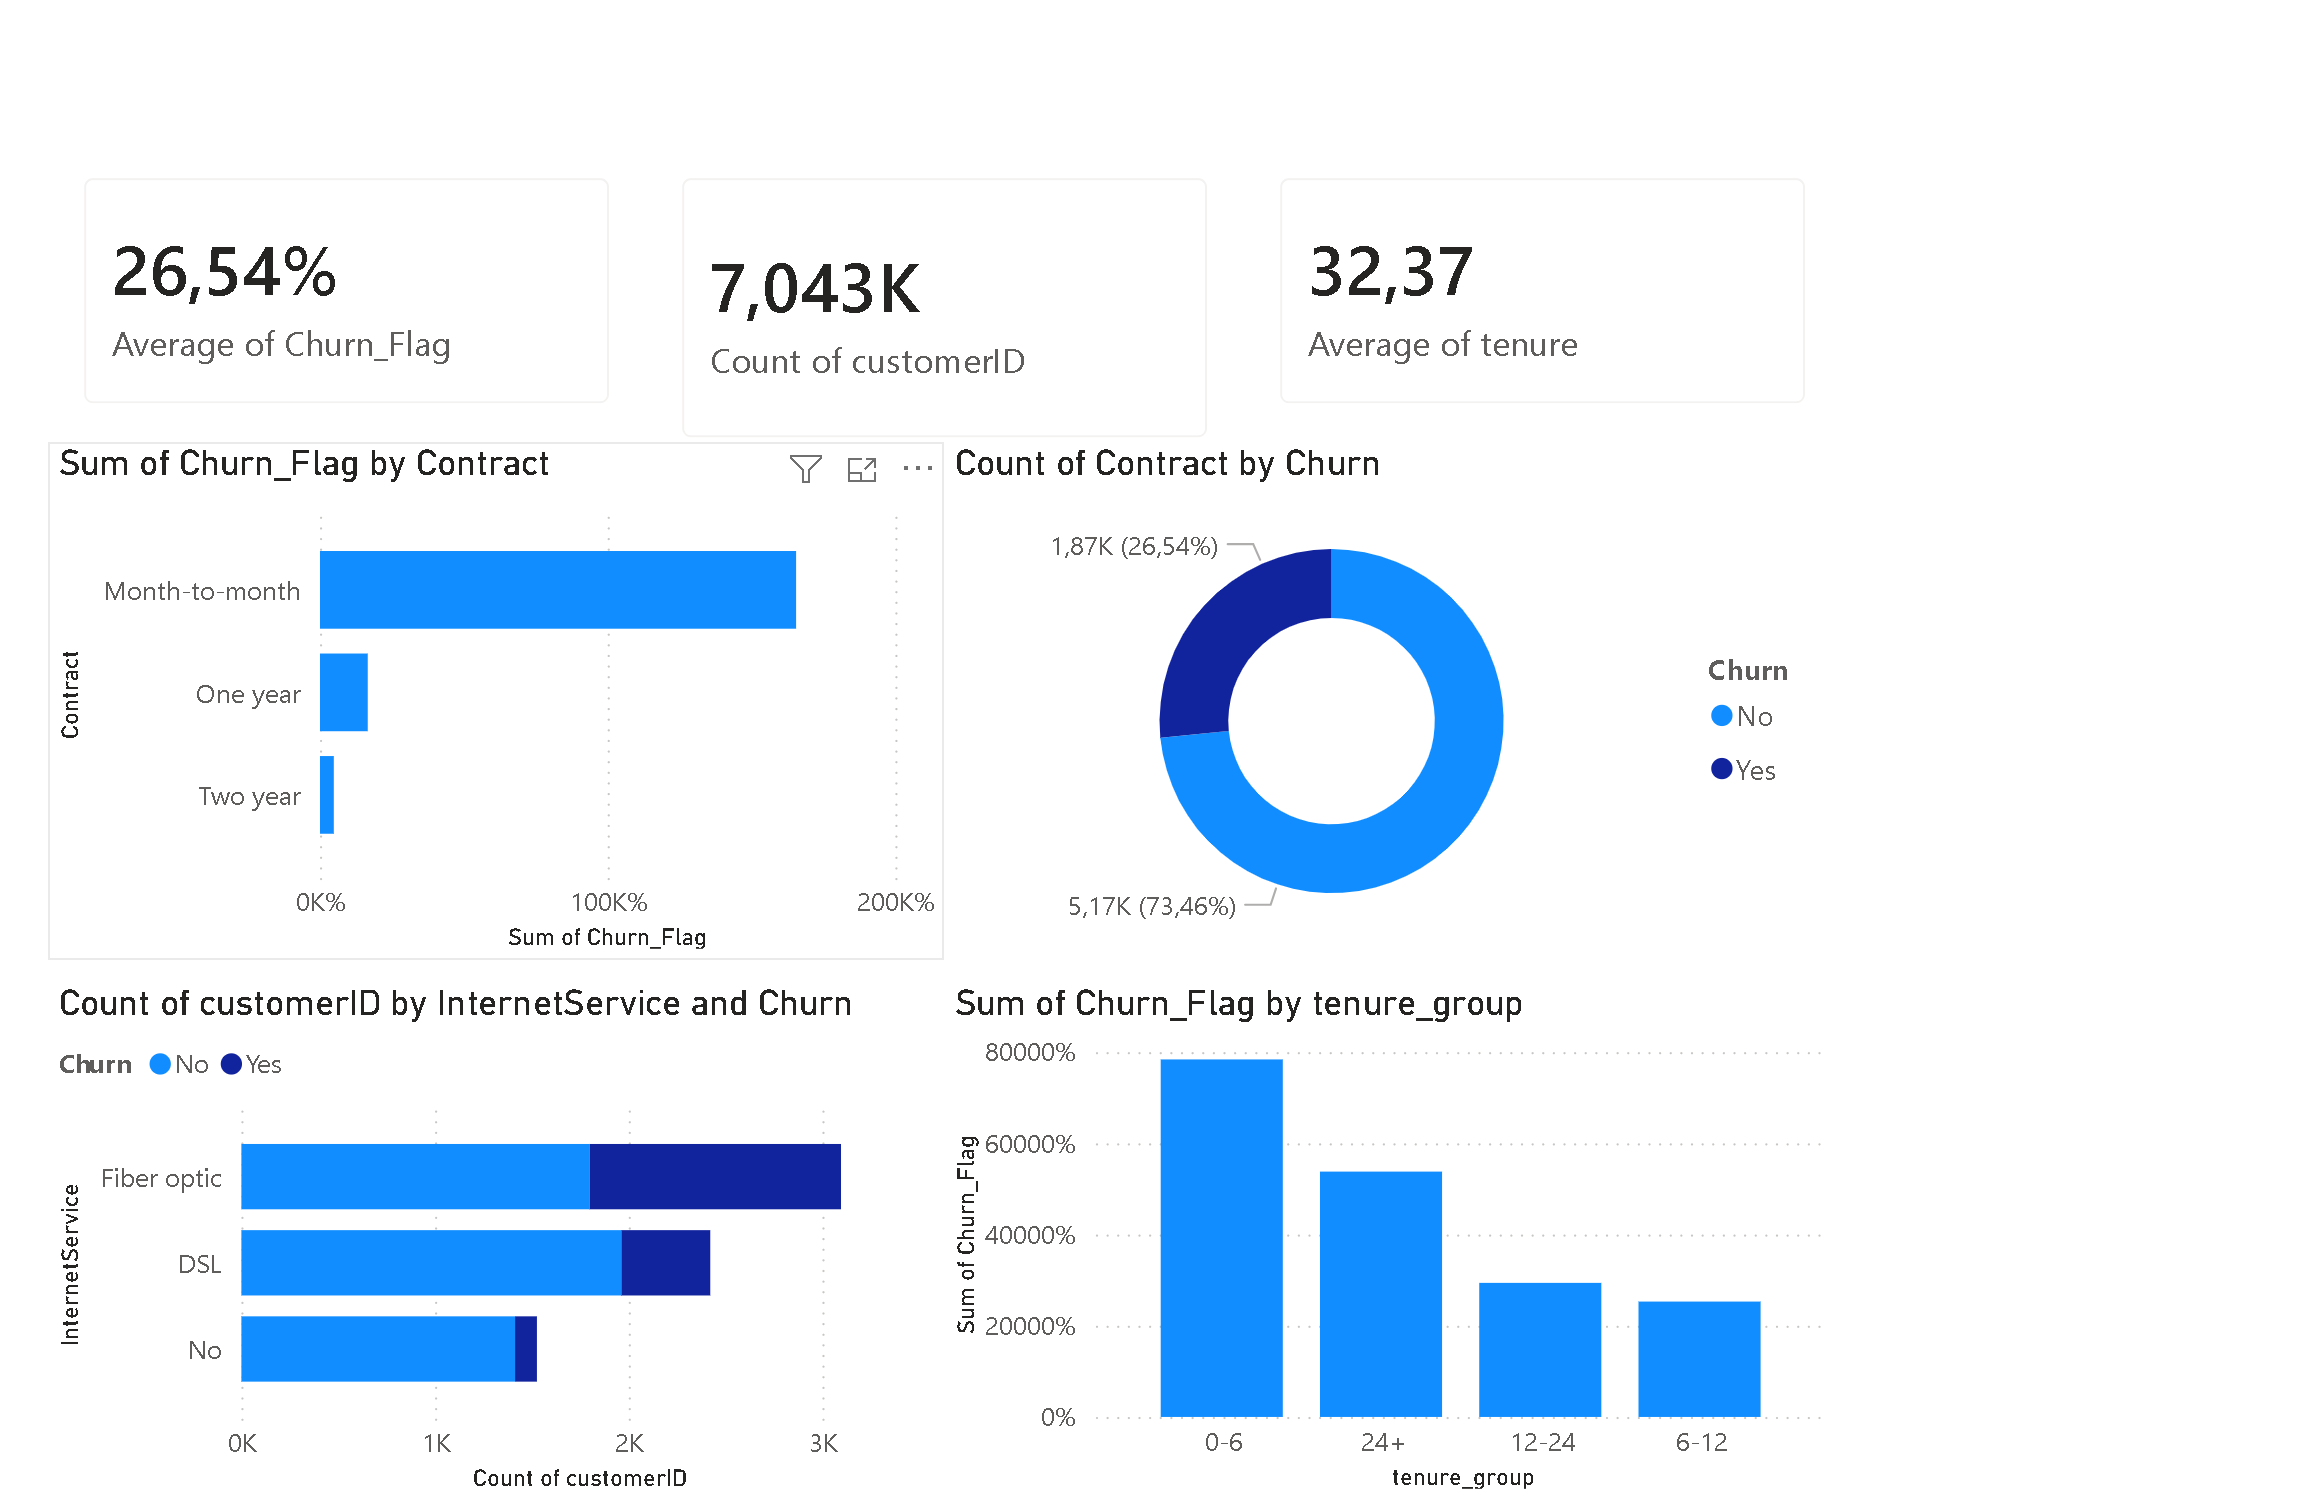

What the dashboard file says about the page in this screenshot:
{"tool":"powerbi","page":{"name":"Page 1","canvas":[1280,720],"ordinal":0},"visuals":[{"type":"cardVisual","fields":{"Data":["Avg(WA_Fn-UseC_-Telco-Customer-Churn.Churn_Flag)"]},"box":[22.8,80.3,281.2,140.6],"z":0},{"type":"cardVisual","fields":{"Data":["Count(WA_Fn-UseC_-Telco-Customer-Churn.customerID)"]},"box":[303.9,80.3,281.2,156.7],"z":1000},{"type":"cardVisual","fields":{"Data":["Avg(WA_Fn-UseC_-Telco-Customer-Churn.tenure)"]},"box":[585.1,80.3,281.2,140.6],"z":2000},{"type":"clusteredBarChart","fields":{"Category":["WA_Fn-UseC_-Telco-Customer-Churn.Contract"],"Y":["Sum(WA_Fn-UseC_-Telco-Customer-Churn.Churn_Flag)"]},"box":[22.8,220.9,421.8,243.7],"z":3000},{"type":"barChart","fields":{"Category":["WA_Fn-UseC_-Telco-Customer-Churn.InternetService"],"Series":["WA_Fn-UseC_-Telco-Customer-Churn.Churn"],"Y":["CountNonNull(WA_Fn-UseC_-Telco-Customer-Churn.customerID)"]},"box":[23,475,422,244],"z":4000},{"type":"donutChart","fields":{"Category":["WA_Fn-UseC_-Telco-Customer-Churn.Churn"],"Y":["CountNonNull(WA_Fn-UseC_-Telco-Customer-Churn.Contract)"]},"box":[444.5,220.9,421.8,243.7],"z":5000},{"type":"columnChart","fields":{"Category":["WA_Fn-UseC_-Telco-Customer-Churn.tenure_group"],"Y":["Sum(WA_Fn-UseC_-Telco-Customer-Churn.Churn_Flag)"]},"box":[444.5,475.3,421.8,243.7],"z":6000}]}

Visuals, with their boxes on the page's 1280x720 design canvas (x1, y1, x2, y2). These are canvas units, not pixel positions in the 2310x1502 screenshot, which may show the page scaled, cropped or inside an application window:
cardVisual - Avg(WA_Fn-UseC_-Telco-Customer-Churn.Churn_Flag): [left=23, top=80, right=304, bottom=221]
cardVisual - Count(WA_Fn-UseC_-Telco-Customer-Churn.customerID): [left=304, top=80, right=585, bottom=237]
cardVisual - Avg(WA_Fn-UseC_-Telco-Customer-Churn.tenure): [left=585, top=80, right=866, bottom=221]
clusteredBarChart - WA_Fn-UseC_-Telco-Customer-Churn.Contract x Sum(WA_Fn-UseC_-Telco-Customer-Churn.Churn_Flag): [left=23, top=221, right=445, bottom=465]
barChart - WA_Fn-UseC_-Telco-Customer-Churn.InternetService x WA_Fn-UseC_-Telco-Customer-Churn.Churn: [left=23, top=475, right=445, bottom=719]
donutChart - WA_Fn-UseC_-Telco-Customer-Churn.Churn x CountNonNull(WA_Fn-UseC_-Telco-Customer-Churn.Contract): [left=444, top=221, right=866, bottom=465]
columnChart - WA_Fn-UseC_-Telco-Customer-Churn.tenure_group x Sum(WA_Fn-UseC_-Telco-Customer-Churn.Churn_Flag): [left=444, top=475, right=866, bottom=719]
